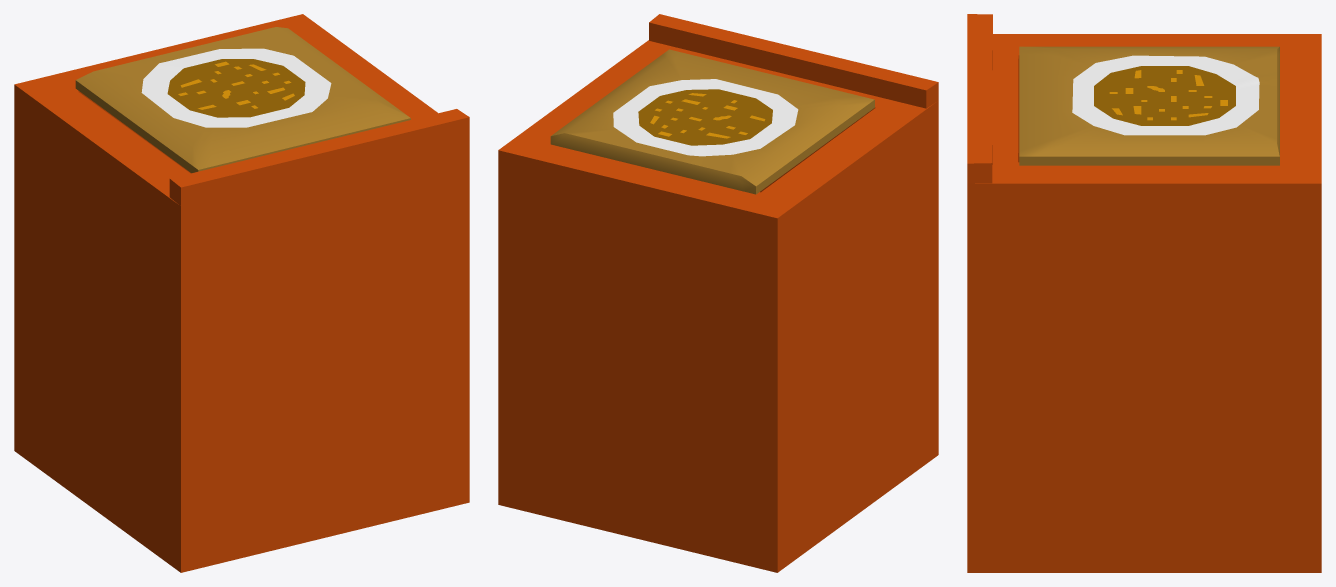
Rendered from BancadaDePao.fbx.
3 renders of one model, left to right at view 1: azimuth 30°, elevation 25°; view 2: azimuth 150°, elevation 25°; view 3: azimuth 270°, elevation 25°, orthographic. The views are drawn at different scales.
Parts seen in each view (by area): view 1: Bancada de Pao.001, Bancada de Pao; view 2: Bancada de Pao.001, Bancada de Pao; view 3: Bancada de Pao.001, Bancada de Pao.
Boxes of the visible parts, x1,y1,x2,y2 form: Bancada de Pao.001: (14,14,469,572); Bancada de Pao: (75,27,410,173); Bancada de Pao.001: (498,14,938,572); Bancada de Pao: (550,49,874,194); Bancada de Pao.001: (967,14,1321,572); Bancada de Pao: (1019,46,1279,165).
Size of the model in its own units: 49.1 by 62.64 by 49.1.
